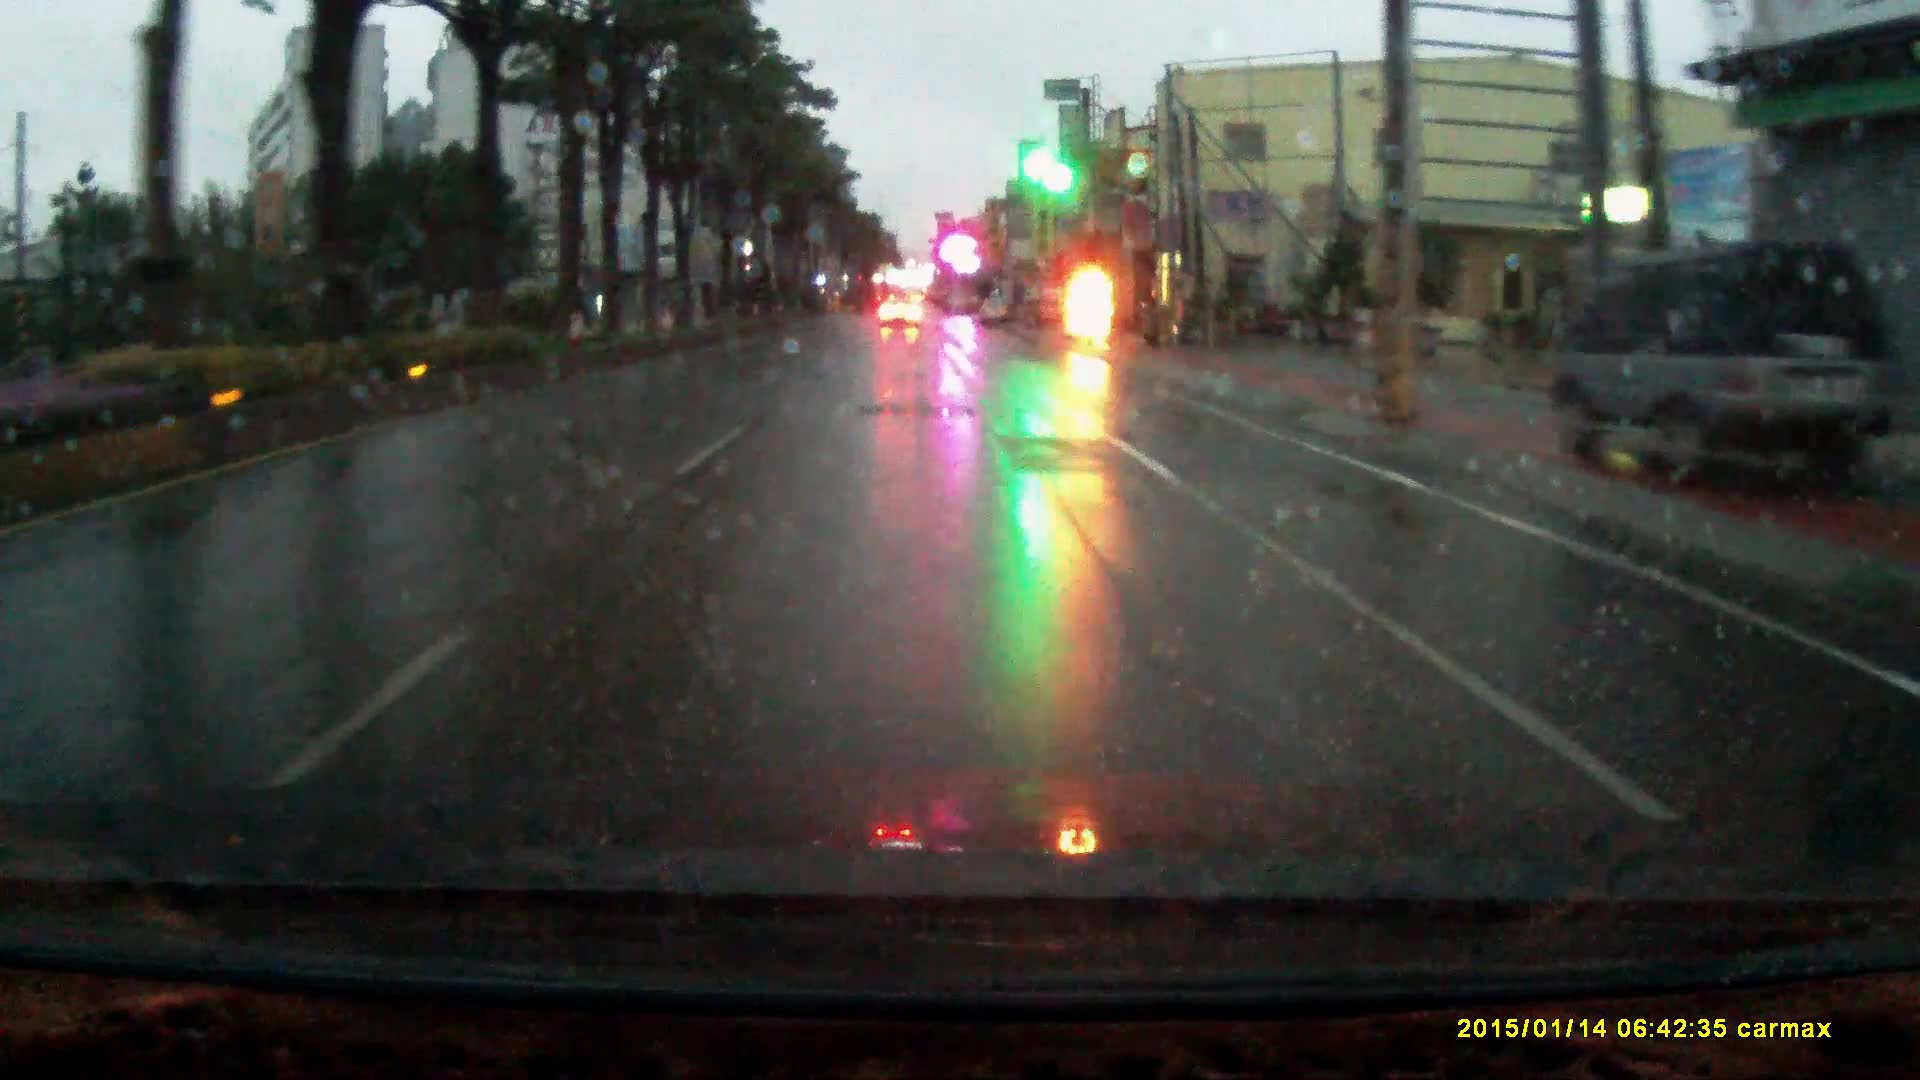vehicle: (1563, 232, 1894, 485), (1015, 284, 1081, 326), (878, 287, 924, 323)
